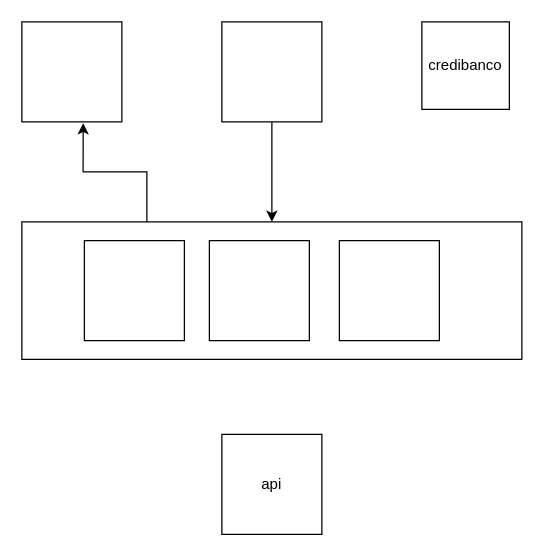
The diagram is 544 pixels wide and 556 high, and some of its shapes have lost their labels. The centre of each missing label's shape, as x and y in pixels:
mercadopago: point (271, 71)
payu: point (71, 71)
